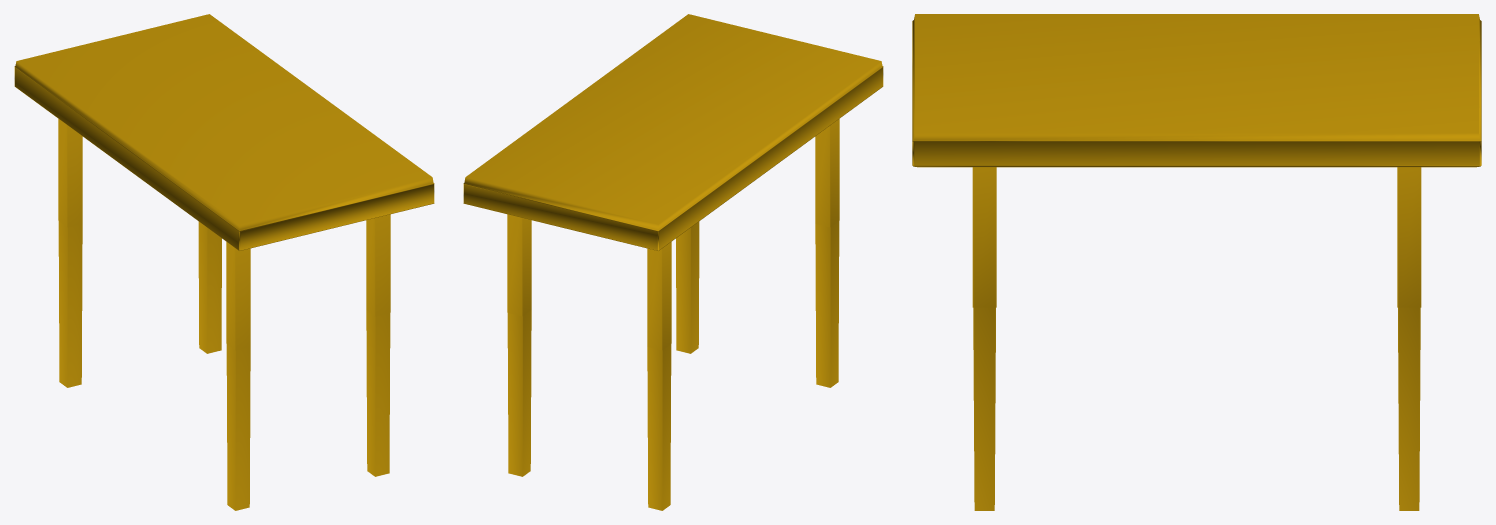
Rendered from TableSubSmoothLowpoly.fbx.
3 renders of one model, left to right at view 1: azimuth 30°, elevation 25°; view 2: azimuth 150°, elevation 25°; view 3: azimuth 270°, elevation 25°, orthographic. The views are drawn at different scales.
Parts seen in each view (by area): view 1: Cube; view 2: Cube; view 3: Cube.
Boxes of the visible parts, x1,y1,x2,y2 form: Cube: (14,14,434,510); Cube: (463,14,883,510); Cube: (912,14,1481,510).
Size of the model in its own units: 20 by 30.24 by 40.
